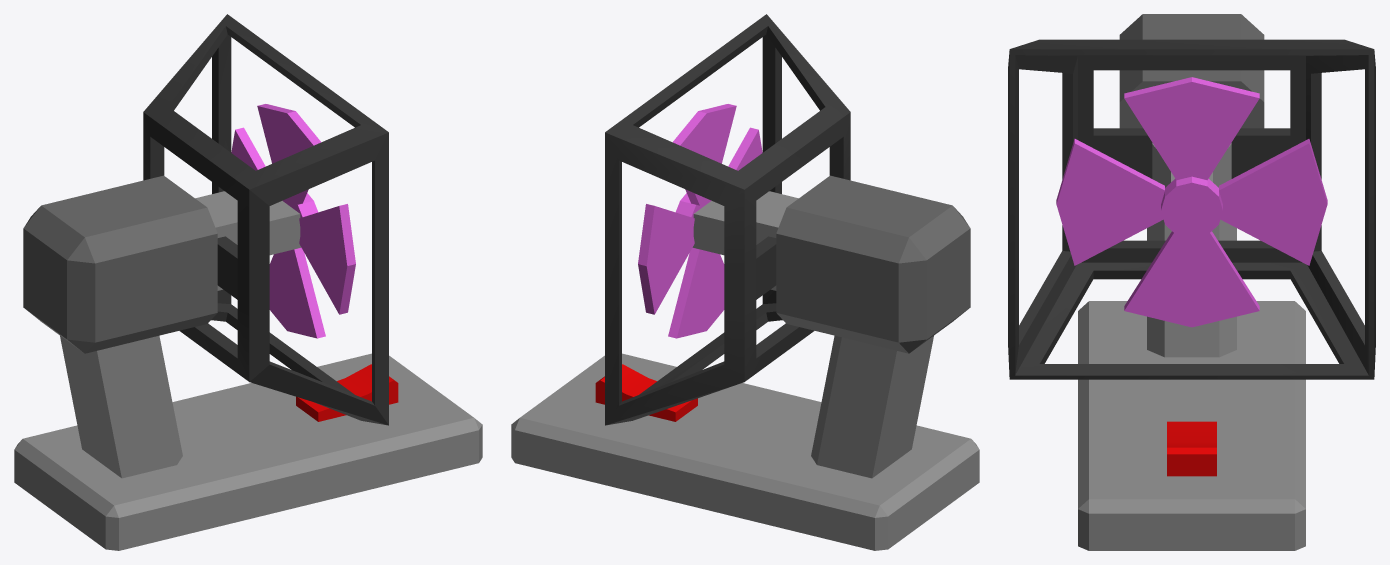
The model's file is Fan.fbx.
3 views of the same model, side by side, from view 1: azimuth 30°, elevation 25°; view 2: azimuth 150°, elevation 25°; view 3: azimuth 270°, elevation 25° (orthographic). The views are drawn at different scales.
Parts seen in each view (by area): view 1: Fan, Feather, Button5; view 2: Fan, Feather, Button5; view 3: Fan, Feather, Button5.
Part boxes in pixels (x1,y1,x2,y2): Fan: [14, 14, 482, 550]; Feather: [231, 104, 355, 338]; Button5: [296, 364, 398, 421]; Fan: [511, 14, 979, 550]; Feather: [638, 104, 762, 338]; Button5: [595, 364, 697, 421]; Fan: [1008, 14, 1375, 550]; Feather: [1056, 77, 1327, 327]; Button5: [1167, 421, 1216, 476].
Bounding box in the file's own units: 2.24 × 2.09 × 1.61.
